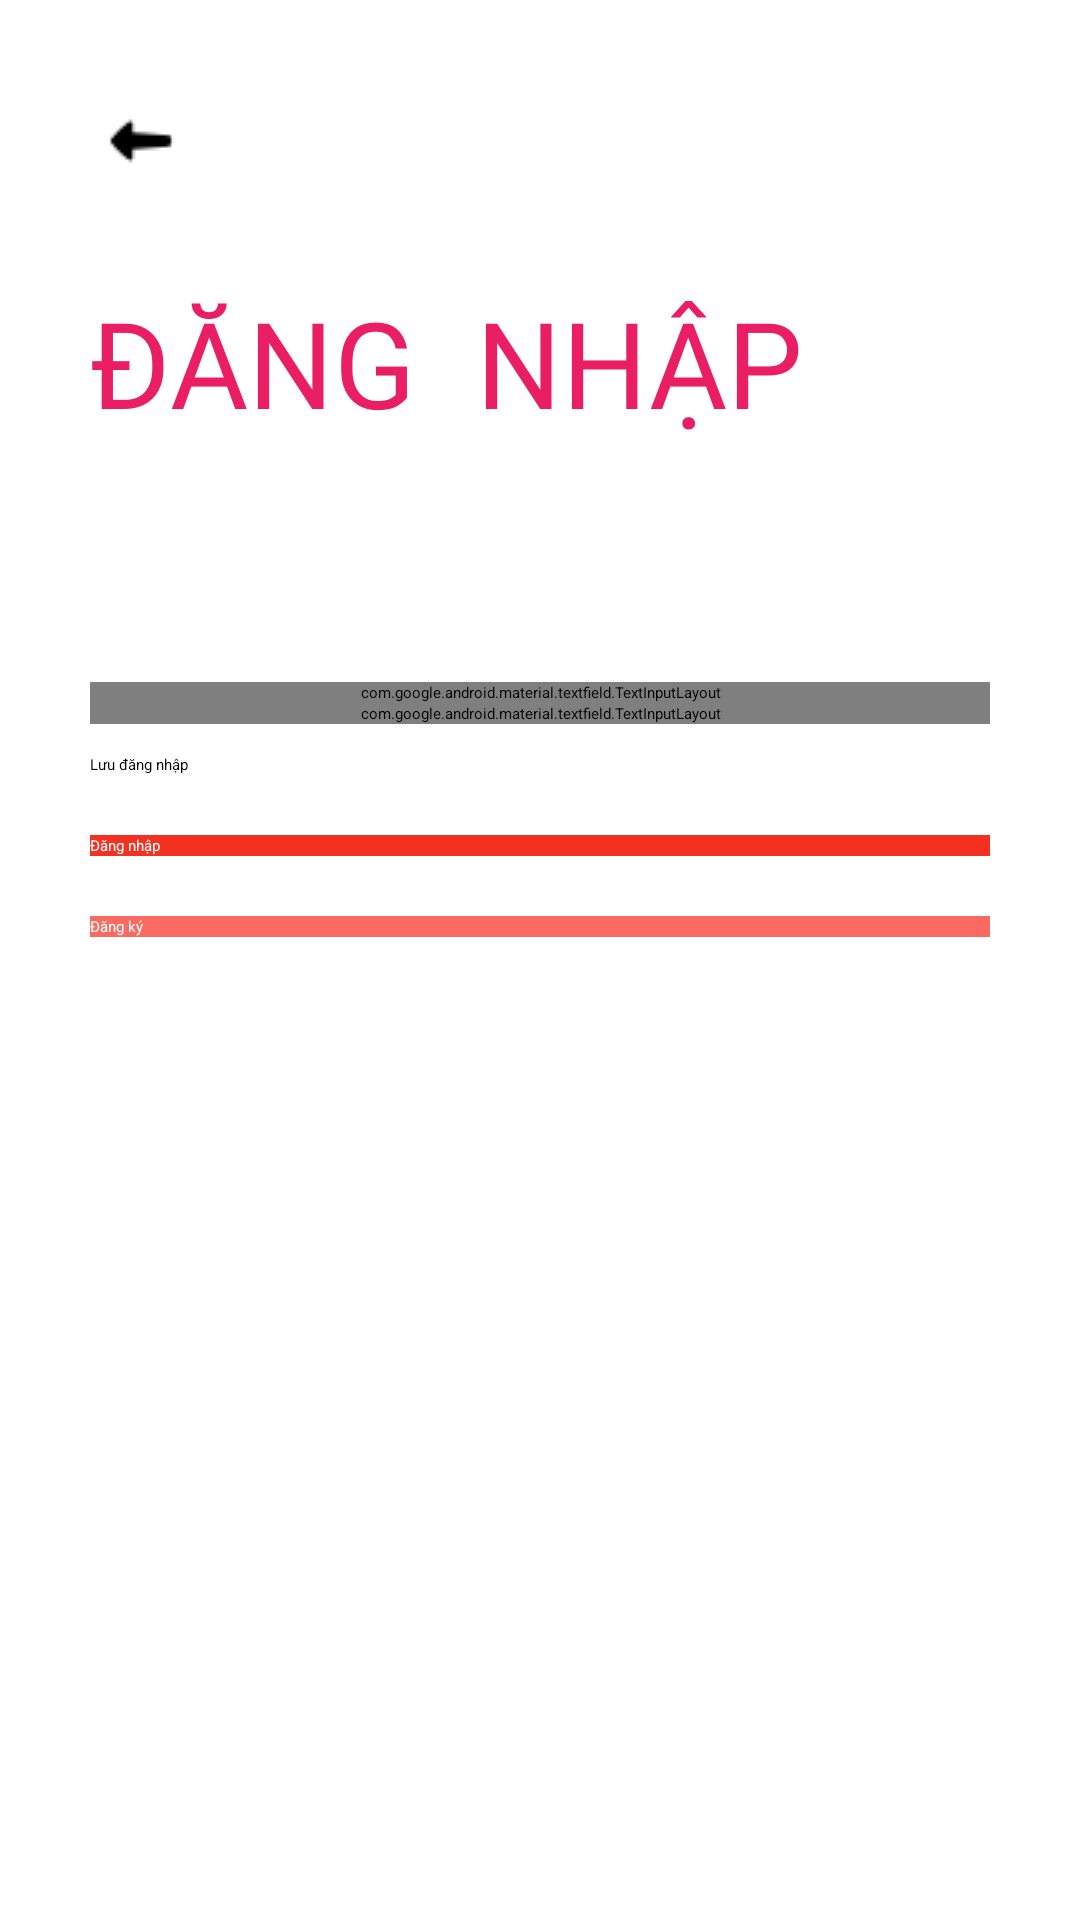

Named icons in this screenshot (1080×1920) and their centers, [x,y]:
left arrow: [141,141]
